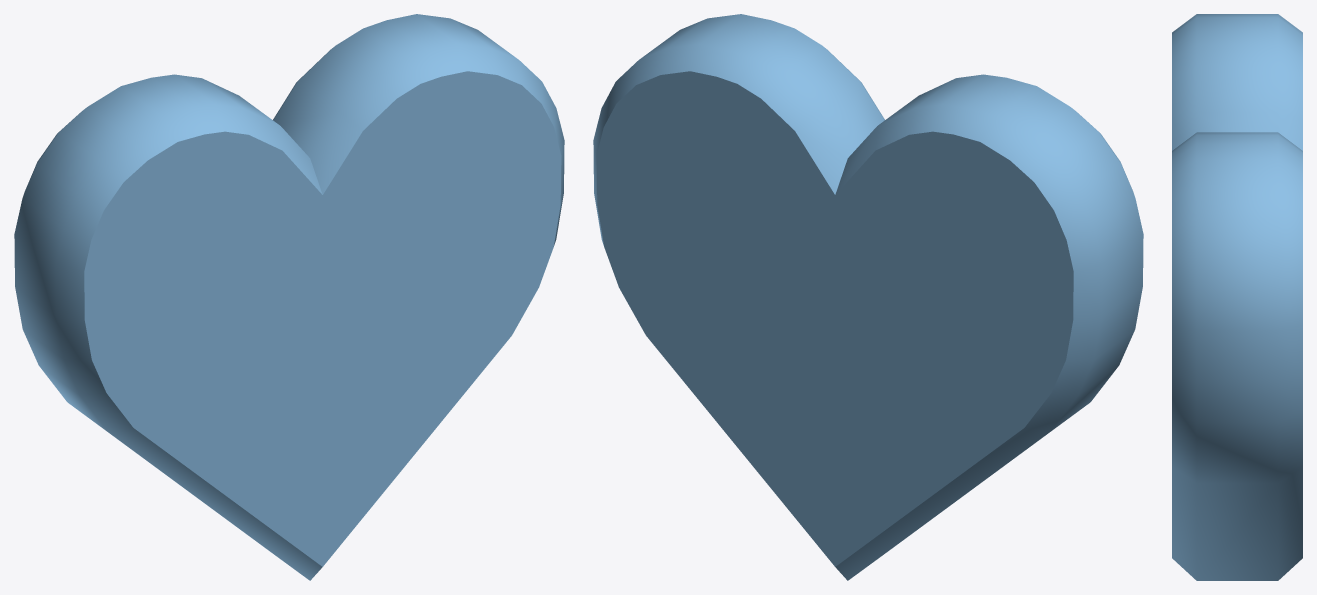
Rendered from Heart_1.fbx.
3 views of the same model, side by side, from view 1: azimuth 30°, elevation 25°; view 2: azimuth 150°, elevation 25°; view 3: azimuth 270°, elevation 25° (orthographic).
Parts seen in each view (by area): view 1: Heart_1; view 2: Heart_1; view 3: Heart_1.
Part boxes in pixels (x1,y1,x2,y2): Heart_1: (14,14,564,580); Heart_1: (593,14,1143,580); Heart_1: (1172,14,1302,580).
Bounding box in the file's own units: 0.2519 × 0.2374 × 0.0571.
